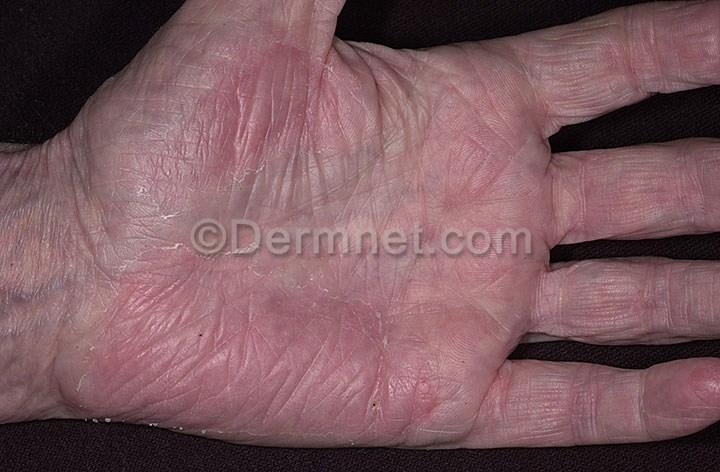Eczema: (142, 94, 268, 206), (215, 37, 331, 134), (289, 319, 396, 422), (218, 339, 325, 441), (155, 236, 255, 344), (28, 305, 121, 411), (124, 340, 237, 427), (92, 255, 174, 368), (384, 362, 481, 450), (265, 84, 348, 180), (413, 259, 519, 333), (250, 273, 345, 355), (419, 142, 486, 240), (590, 147, 675, 223), (515, 369, 596, 443), (336, 45, 413, 120), (582, 359, 655, 438), (529, 158, 604, 229), (561, 263, 634, 333), (465, 363, 531, 435), (512, 263, 576, 327), (499, 84, 557, 154), (627, 23, 694, 83), (568, 43, 630, 102), (661, 366, 712, 434), (665, 152, 720, 213), (639, 268, 692, 326)
